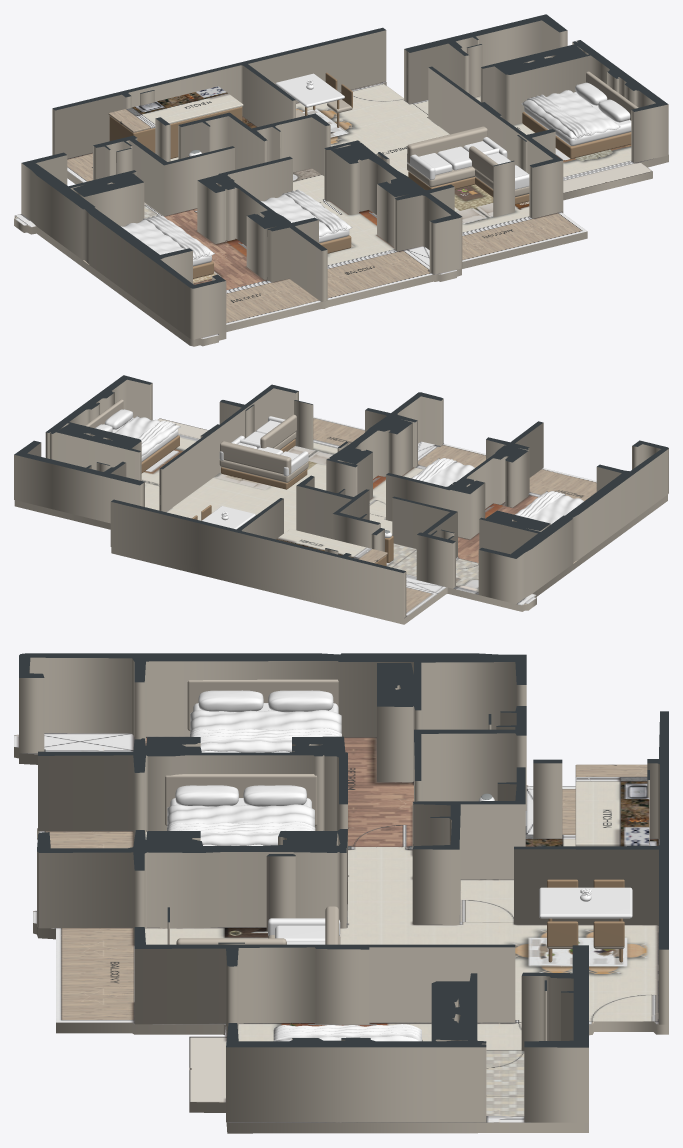
3 views of the same model, one above another, from view 1: azimuth 30°, elevation 25°; view 2: azimuth 150°, elevation 25°; view 3: azimuth 270°, elevation 25° (orthographic). The views are drawn at different scales.
Parts seen in each view (by area): view 1: Partition walls, Apartment floor, Stone worktop, Draped bed linen.004, Kitchen cabinets, Marble dining top, Walnut upholstered base.002, Sofa back, Draped bed linen, Draped bed linen.002, Piped mattress.002, Draped bed linen.001 (+6 smaller); view 2: Partition walls, Apartment floor, Stone worktop, Sofa back, Draped bed linen.004, Draped bed linen, Upholstered sofa frame, Marble dining top, Draped bed linen.002, Sofa back.001, Sofa plinth, Draped bed linen.001 (+3 smaller); view 3: Partition walls, Apartment floor, Stone worktop, Draped bed linen, Draped bed linen.002, Marble dining top, Upholstered headboard.001, Upholstered headboard, Draped bed linen.005, Draped bed linen.001, Draped bed linen.003, Tailored pillow (+7 smaller).
Boxes of the visible parts, bbox=[...] form: Partition walls: bbox=[21, 14, 668, 339]; Apartment floor: bbox=[14, 81, 668, 346]; Stone worktop: bbox=[108, 86, 243, 132]; Draped bed linen.004: bbox=[521, 90, 620, 139]; Kitchen cabinets: bbox=[109, 106, 242, 158]; Marble dining top: bbox=[275, 73, 344, 107]; Walnut upholstered base.002: bbox=[522, 112, 631, 158]; Sofa back: bbox=[407, 126, 487, 163]; Draped bed linen: bbox=[121, 216, 214, 259]; Draped bed linen.002: bbox=[260, 191, 352, 236]; Piped mattress.002: bbox=[524, 92, 631, 145]; Draped bed linen.001: bbox=[142, 214, 209, 258]; Partition walls: bbox=[14, 375, 668, 618]; Apartment floor: bbox=[14, 417, 667, 624]; Stone worktop: bbox=[276, 529, 387, 563]; Sofa back: bbox=[220, 441, 291, 474]; Draped bed linen.004: bbox=[115, 416, 180, 456]; Draped bed linen: bbox=[515, 491, 583, 524]; Upholstered sofa frame: bbox=[219, 460, 308, 482]; Marble dining top: bbox=[202, 506, 255, 529]; Draped bed linen.002: bbox=[411, 458, 474, 486]; Sofa back.001: bbox=[260, 414, 296, 448]; Sofa plinth: bbox=[221, 467, 307, 489]; Draped bed linen.001: bbox=[516, 491, 565, 518]; Partition walls: bbox=[19, 653, 668, 1122]; Apartment floor: bbox=[14, 733, 668, 1133]; Stone worktop: bbox=[575, 764, 649, 846]; Draped bed linen: bbox=[190, 710, 341, 752]; Draped bed linen.002: bbox=[167, 804, 314, 845]; Marble dining top: bbox=[539, 887, 632, 918]; Upholstered headboard.001: bbox=[165, 774, 317, 825]; Upholstered headboard: bbox=[187, 679, 338, 730]; Draped bed linen.005: bbox=[273, 1024, 421, 1041]; Draped bed linen.001: bbox=[190, 728, 341, 744]; Draped bed linen.003: bbox=[167, 821, 315, 836]; Tailored pillow: bbox=[198, 690, 263, 712].
Bounding box in the file's own units: 13.02 × 1.3 × 9.
Materials: 10 (1 with a texture image).
